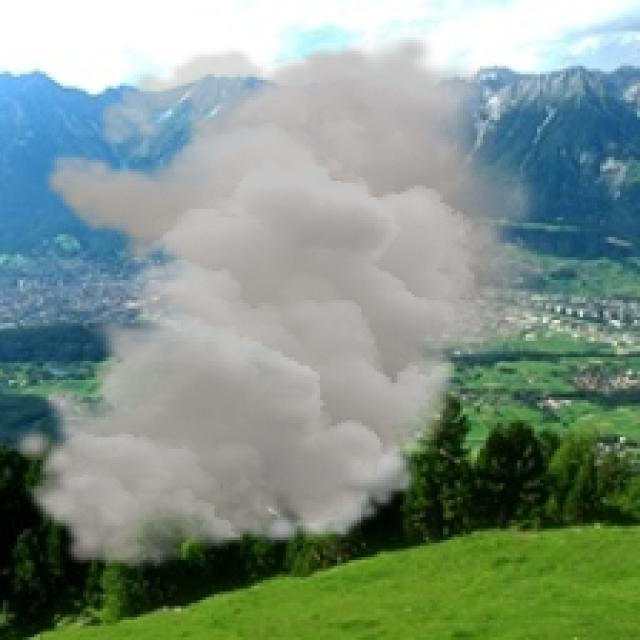smoke: (9, 31, 560, 572)
